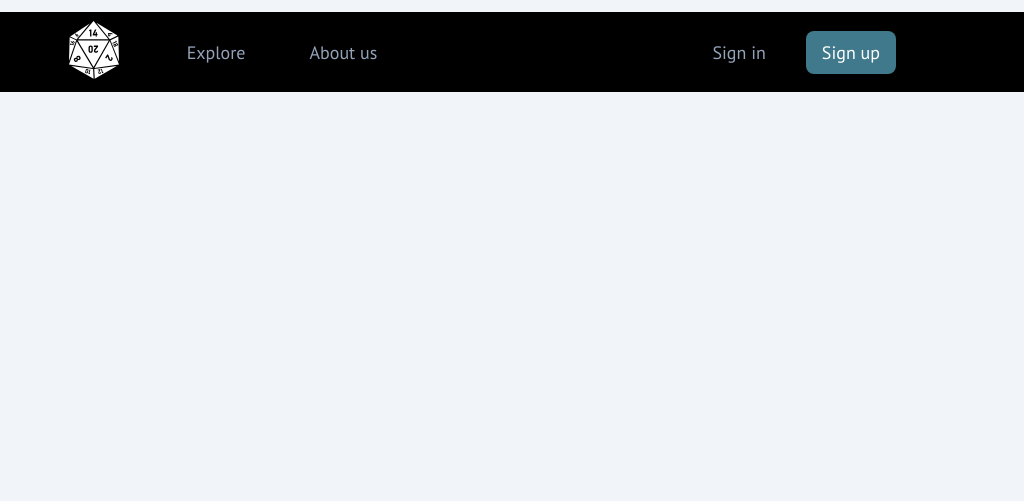
Scenario: Header › when user clicks in explore tab › should render option customize character when clicking explore tab
Click the link "Explore".
click(216, 52)  # box x1=187 y1=38 x2=246 y2=66
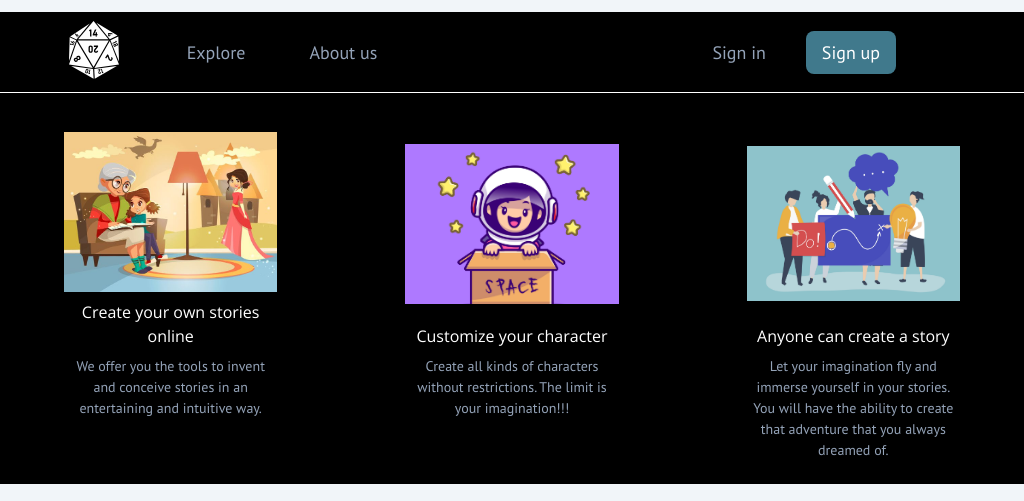
Check: the heading "Customize your character" is shown, box x1=416 y1=325 x2=608 y2=347
